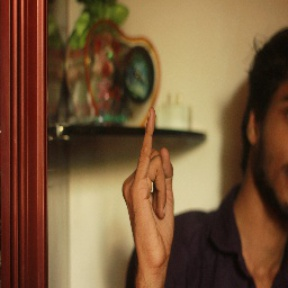I: (121, 106, 181, 257)
